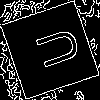U: (25, 25, 83, 74)
